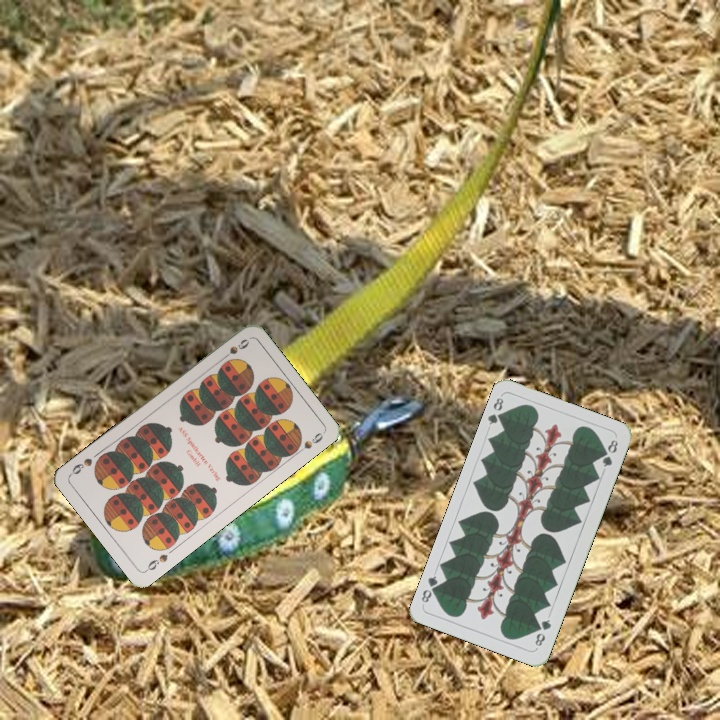G8: (531, 615, 554, 651), (484, 393, 508, 427)
S9: (216, 335, 252, 364), (142, 550, 170, 574)
